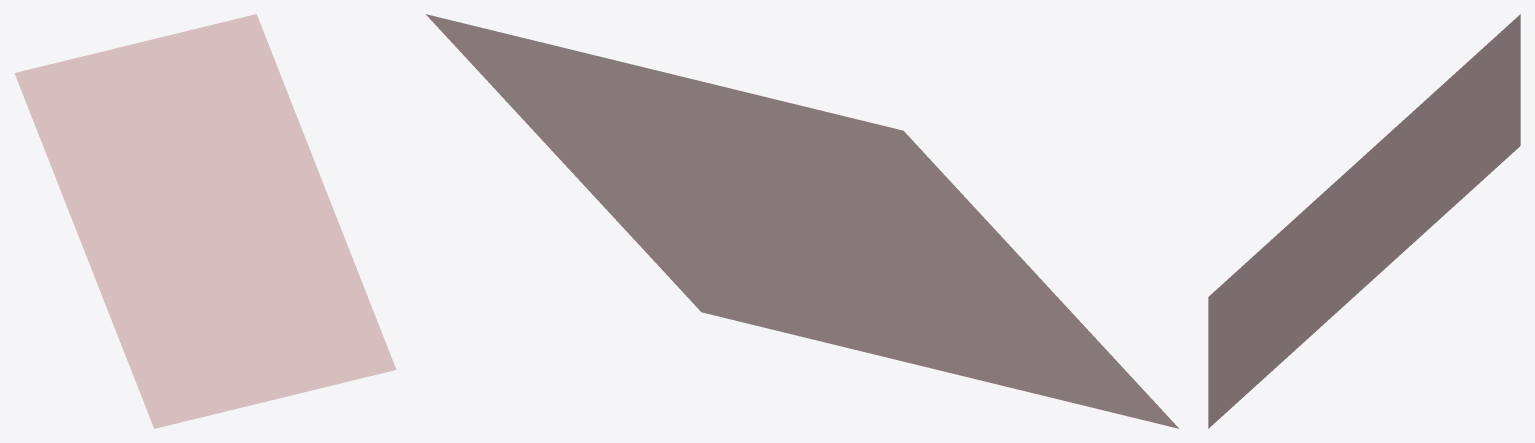
Rendered from castle_roof_02.fbx.
3 renders of one model, left to right at view 1: azimuth 30°, elevation 25°; view 2: azimuth 150°, elevation 25°; view 3: azimuth 270°, elevation 25°, orthographic. The views are drawn at different scales.
Parts seen in each view (by area): view 1: castle_roof_02; view 2: castle_roof_02; view 3: castle_roof_02.
Boxes of the visible parts, x1,y1,x2,y2 form: castle_roof_02: (14,14,396,428); castle_roof_02: (426,14,1178,428); castle_roof_02: (1208,14,1520,428).
Size of the model in its own units: 8 by 8 by 8.
